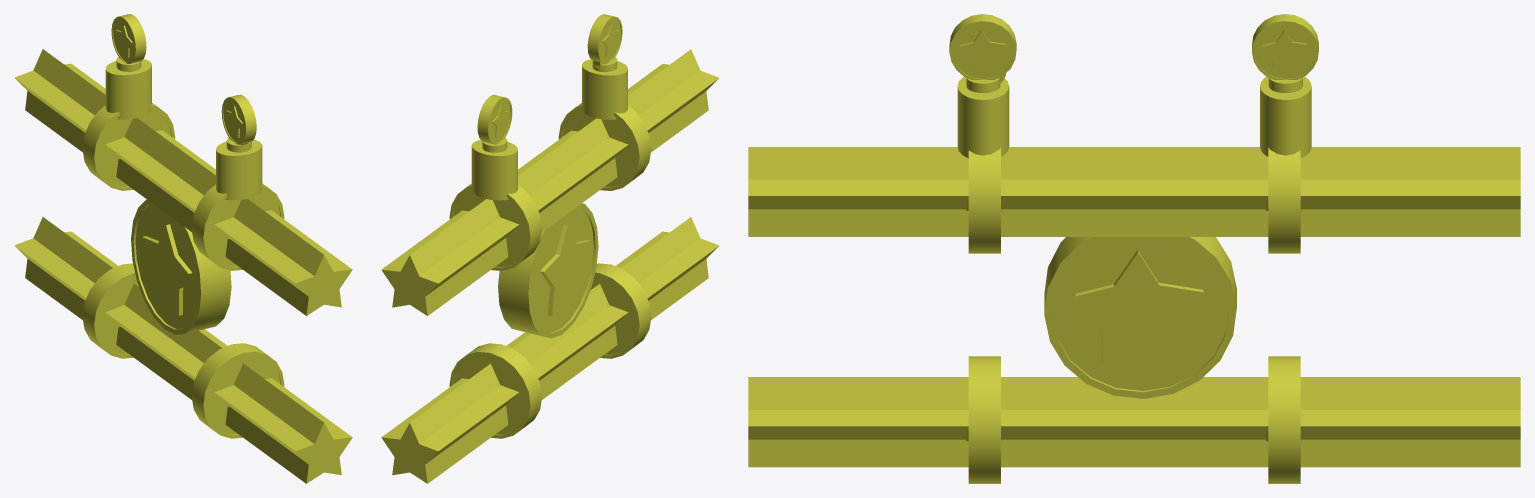
File: fence.fbx
3 renders of one model, left to right at view 1: azimuth 30°, elevation 25°; view 2: azimuth 150°, elevation 25°; view 3: azimuth 270°, elevation 25°, orthographic. The views are drawn at different scales.
Visible parts, largest first — view 1: pCylinder13 (×2), pCylinder20 (×2), Coin14, Coin15, Coin10, Coin5, Coin16, pCylinder16, pCylinder18, Coin13, Coin12; view 2: pCylinder13 (×2), pCylinder20 (×2), Coin14, Coin16, Coin15, Coin5, Coin10, pCylinder18, pCylinder16, Coin13, Coin12; view 3: pCylinder13 (×2), pCylinder20 (×2), Coin14, Coin15, Coin16, Coin13, Coin12, pCylinder16, pCylinder18, Coin5, Coin10.
Boxes of the visible parts, x1,y1,x2,y2 form: pCylinder13 (×2): (14, 49, 352, 315); pCylinder20 (×2): (14, 217, 352, 483); Coin14: (131, 199, 231, 334); Coin15: (191, 343, 284, 438); Coin10: (82, 103, 175, 190); Coin5: (191, 183, 284, 270); Coin16: (82, 263, 138, 358); pCylinder16: (216, 140, 262, 200); pCylinder18: (105, 59, 151, 119); Coin13: (111, 14, 146, 63); Coin12: (221, 94, 256, 144); pCylinder13 (×2): (381, 49, 719, 315); pCylinder20 (×2): (381, 217, 719, 483); Coin14: (498, 203, 598, 338); Coin16: (449, 343, 542, 438); Coin15: (591, 263, 651, 358); Coin5: (558, 103, 651, 190); Coin10: (449, 184, 542, 270); pCylinder18: (471, 140, 517, 200); pCylinder16: (582, 59, 627, 119); Coin13: (477, 94, 512, 144); Coin12: (587, 14, 622, 64); pCylinder13 (×2): (748, 147, 1520, 236); pCylinder20 (×2): (748, 377, 1520, 467); Coin14: (1044, 237, 1236, 398); Coin15: (966, 356, 1003, 483); Coin16: (1266, 356, 1302, 483); Coin13: (1252, 14, 1318, 79); Coin12: (949, 14, 1016, 79); pCylinder16: (957, 77, 1009, 158); pCylinder18: (1260, 76, 1311, 157); Coin5: (966, 147, 1003, 253); Coin10: (1266, 148, 1302, 253).
Size of the model in its own units: 0.0619 by 0.2448 by 0.3715.
